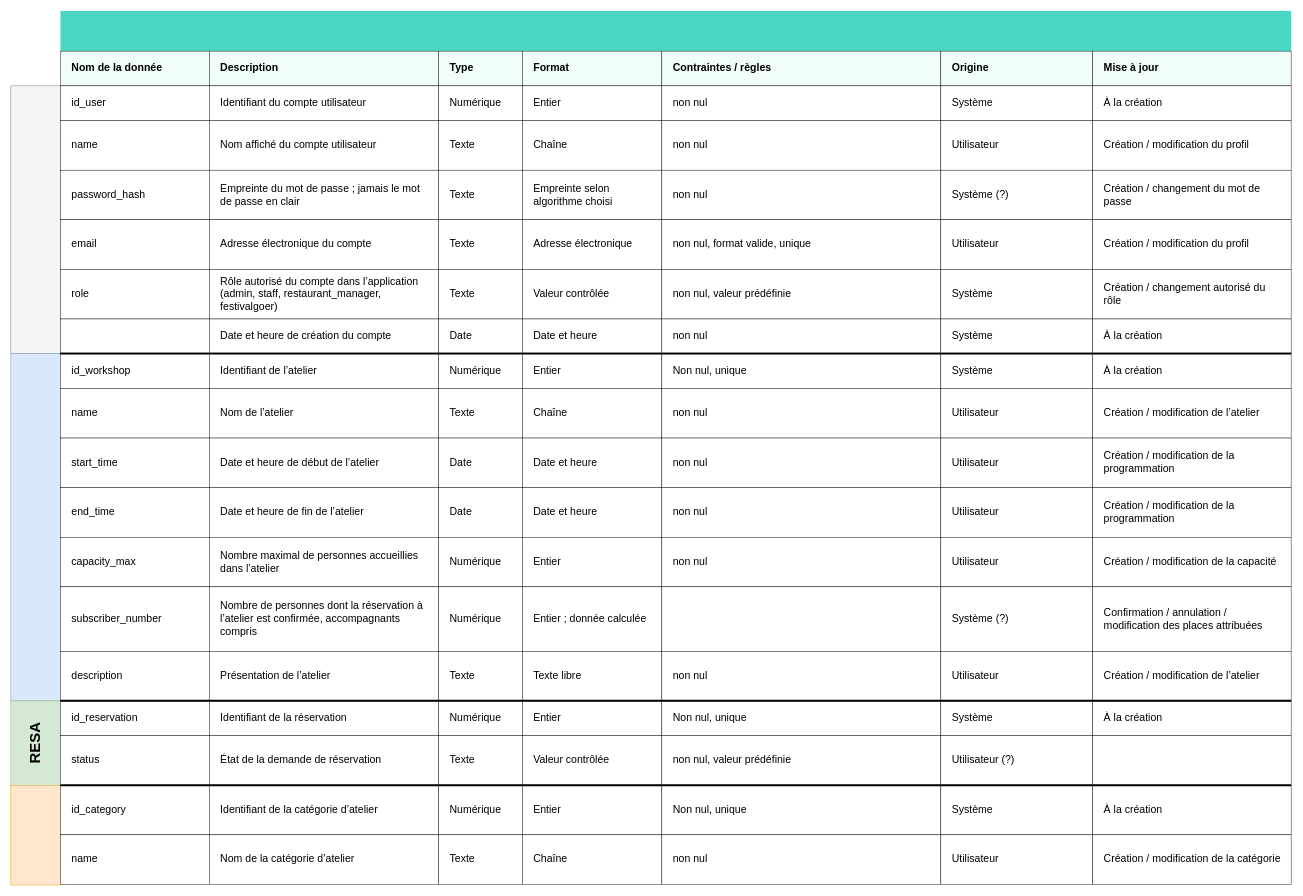
The diagram is 1303 pixels wide and 896 high, and some of its shapes have lost their labels. The shapes that lost their labels are listed below. From the top down, each one's centre as x and y in pixels, then its label:
At point (675, 31): "Dictionnaire de données - V1".
At point (35, 219): "USER".
At point (134, 336): "created_at".
At point (35, 527): "WORKSHOP".
At point (801, 618): "non nul, >= 0, < capacity_max".
At point (1191, 760): "Création / confirmation / mise en attente / annulation".
At point (35, 835): "CATEGORY".
